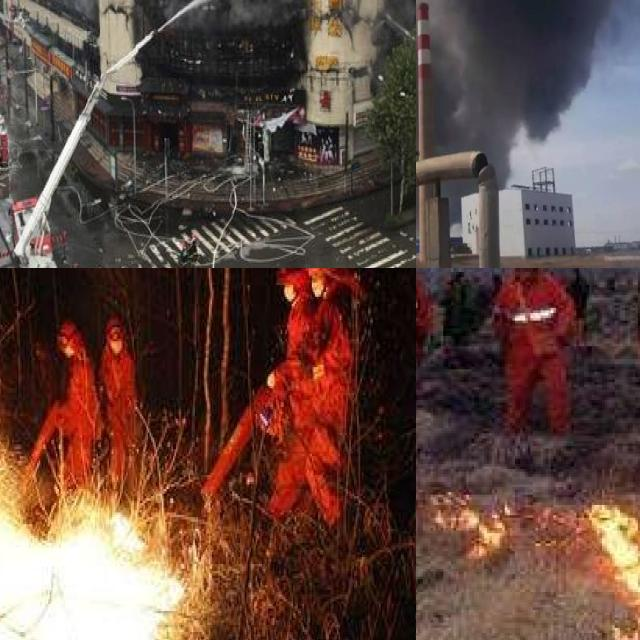fire: (0, 411, 179, 640), (416, 484, 545, 553), (576, 498, 640, 636)
smoke: (416, 0, 640, 257)
